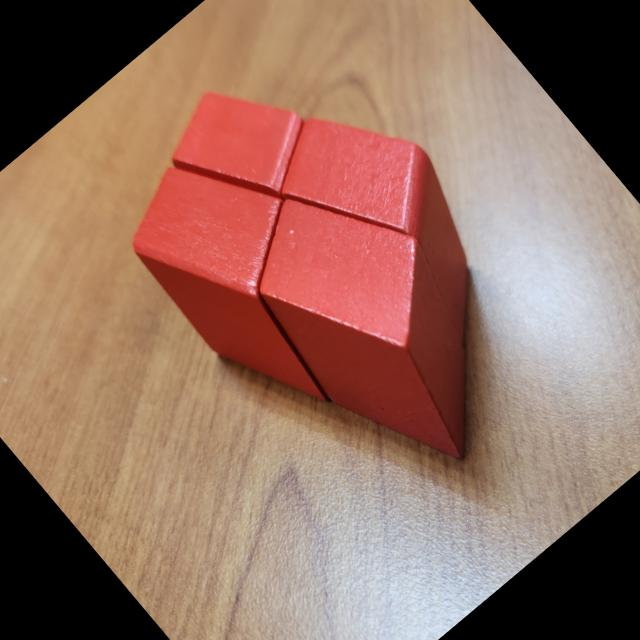red: (212, 149, 546, 501), (104, 122, 401, 434), (254, 74, 537, 374), (150, 52, 337, 240)
